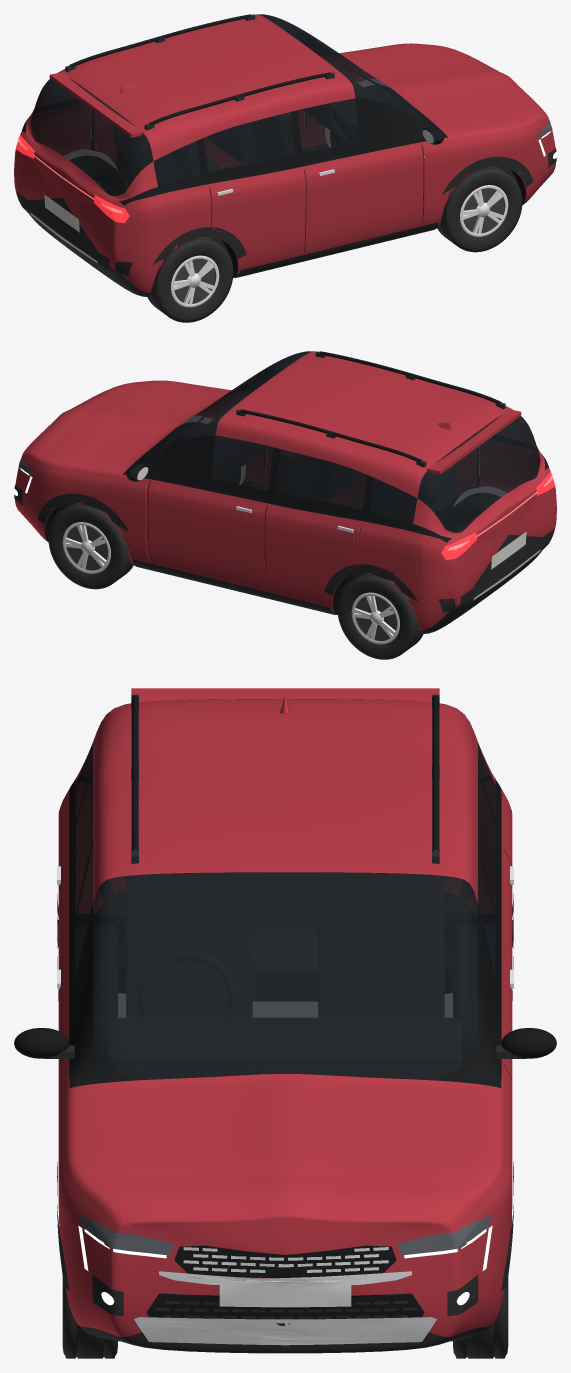
File: kia-sonet-model.glb
The picture shows the model from 3 angles, top to bottom: view 1: azimuth 30°, elevation 25°; view 2: azimuth 150°, elevation 25°; view 3: azimuth 270°, elevation 25°; orthographic projection. The views are drawn at different scales.
Visible parts, largest first — view 1: Body, Wheel.004, Wheel.002, SeatBack.002, SeatBack.001, SillCladding.001, Spoiler, RearBumper, Dashboard, Wheel.003, ArchCladding.003, ArchCladding.001 (+9 smaller); view 2: Body, Wheel.003, Wheel.001, SeatBack.002, Dashboard, SeatBack, SillCladding, Spoiler, RearBumper, Wheel.004, ArchCladding.002, ArchCladding (+8 smaller); view 3: Body, Dashboard, SeatBack, SeatBack.001, Silver1, Grille, SeatBase.002, Intake, SeatBack.002, Spoiler, PlateFront, Wheel.004 (+12 smaller).
Part boxes in pixels (box(x1,y1,x2,y2)): Body: box(14, 14, 555, 296); Wheel.004: box(147, 236, 233, 322); Wheel.002: box(437, 166, 522, 252); SeatBack.002: box(111, 124, 200, 183); SeatBack.001: box(251, 113, 294, 161); SillCladding.001: box(234, 222, 438, 277); Spoiler: box(49, 72, 144, 137); RearBumper: box(17, 192, 132, 275); Dashboard: box(303, 62, 383, 141); Wheel.003: box(70, 156, 128, 195); ArchCladding.003: box(153, 227, 246, 264); ArchCladding.001: box(442, 156, 532, 194); Body: box(15, 351, 556, 633); Wheel.003: box(337, 573, 423, 659); Wheel.001: box(48, 503, 133, 589); SeatBack.002: box(370, 461, 459, 520); Dashboard: box(187, 399, 267, 480); SeatBack: box(276, 450, 319, 498); SillCladding: box(132, 559, 336, 614); Spoiler: box(426, 409, 521, 474); RearBumper: box(438, 529, 553, 612); Wheel.004: box(442, 493, 500, 532); ArchCladding.002: box(324, 564, 417, 601); ArchCladding: box(38, 493, 128, 531); Body: box(58, 699, 512, 1353); Dashboard: box(109, 1018, 461, 1080); SeatBack: box(319, 872, 443, 1013); SeatBack.001: box(127, 872, 251, 1013); Silver1: box(134, 1317, 436, 1345); Grille: box(174, 1245, 396, 1277); SeatBase.002: box(253, 930, 317, 1000); Intake: box(146, 1293, 424, 1319); SeatBack.002: box(253, 873, 317, 928); Spoiler: box(131, 688, 439, 702); PlateFront: box(219, 1281, 351, 1307); Wheel.004: box(75, 925, 117, 1064).
Bounding box in the file's own units: 3.94 × 1.65 × 2.15.
